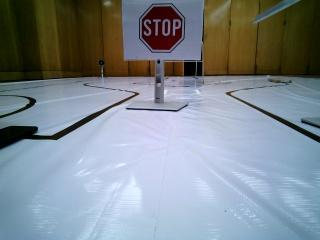stop: (129, 2, 198, 61)
